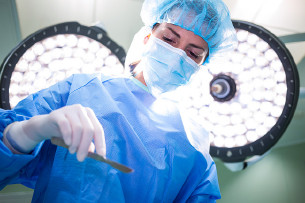face_mask: (139, 27, 203, 90)
